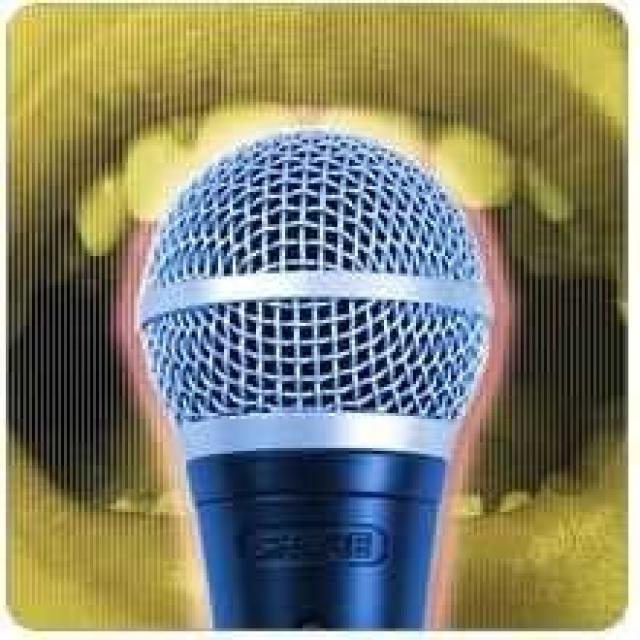microphone: (145, 138, 484, 628)
